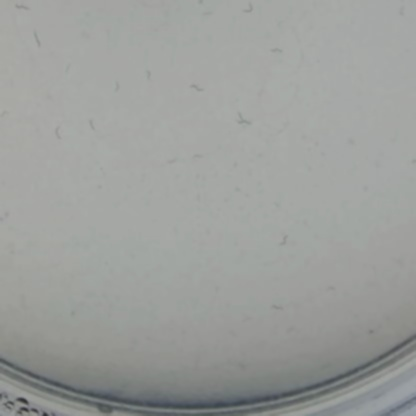worm: (22, 30, 53, 51), (160, 150, 189, 171), (50, 124, 74, 143), (13, 1, 38, 18), (185, 77, 206, 97), (231, 107, 252, 127), (388, 0, 408, 21), (191, 191, 212, 211), (273, 226, 288, 253), (276, 124, 299, 139), (192, 151, 213, 167), (266, 299, 288, 314), (85, 119, 103, 137), (240, 0, 257, 17), (140, 64, 153, 86), (322, 282, 340, 296), (199, 8, 218, 21), (267, 46, 287, 58), (62, 60, 77, 76), (0, 107, 14, 123), (110, 76, 120, 97)
